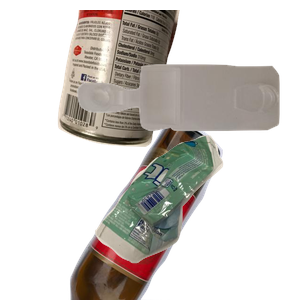glass: (67, 120, 282, 300)
metal: (55, 10, 227, 149)
plastic: (75, 62, 300, 186)
trash: (92, 133, 300, 300)
